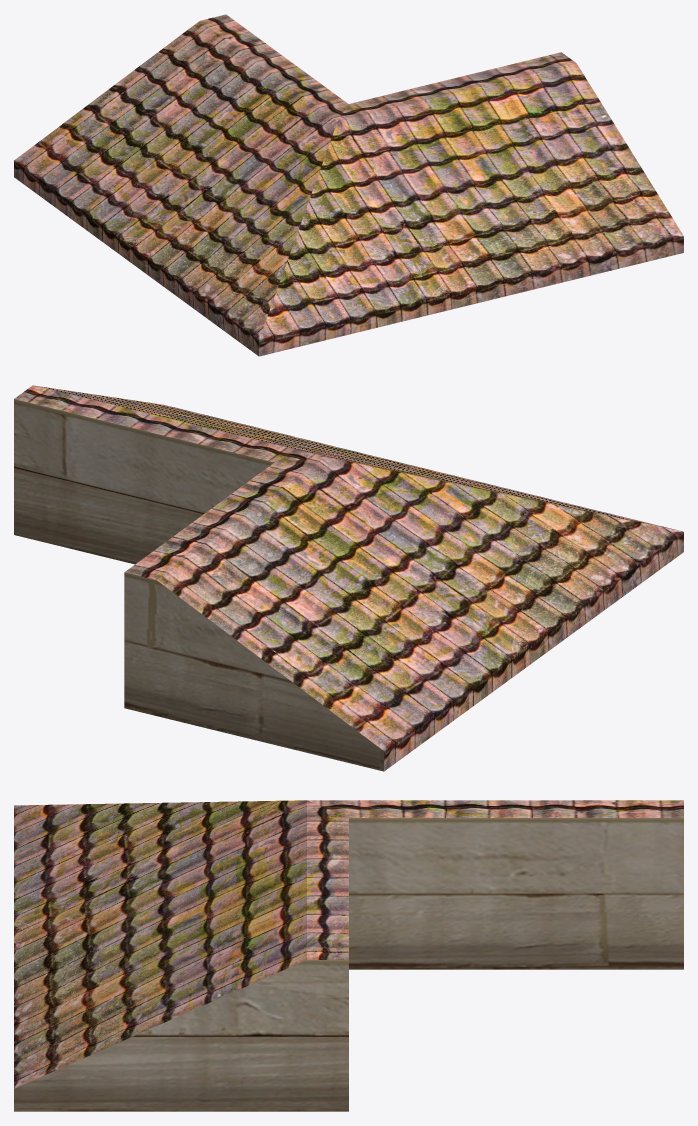
File: svspartaroof6.dae
3 views of the same model, one above another, from view 1: azimuth 30°, elevation 25°; view 2: azimuth 150°, elevation 25°; view 3: azimuth 270°, elevation 25° (orthographic). The views are drawn at different scales.
Parts seen in each view (by area): view 1: cube12_sep25-0; view 2: cube12_sep25-0; view 3: cube12_sep25-0.
Part boxes in pixels (<box>): cube12_sep25-0: <box>14,14,683,356</box>; cube12_sep25-0: <box>14,385,683,771</box>; cube12_sep25-0: <box>14,800,683,1111</box>.
Size of the model in its own units: 300 by 75 by 300.
